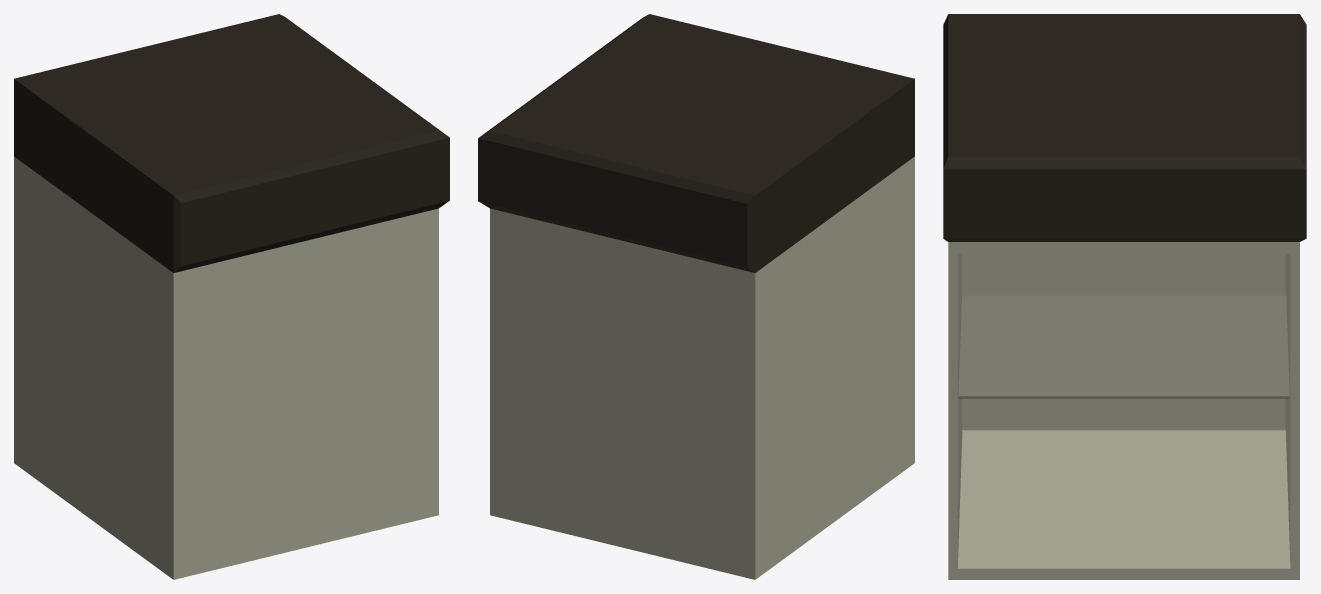
File: UpperCabinetBaseV1.fbx
3 views of the same model, side by side, from view 1: azimuth 30°, elevation 25°; view 2: azimuth 150°, elevation 25°; view 3: azimuth 270°, elevation 25° (orthographic). The views are drawn at different scales.
Visible parts, largest first — view 1: Cube; view 2: Cube; view 3: Cube.
Boxes of the visible parts, box(x1,y1,x2,y2) form: Cube: box(14, 14, 449, 579); Cube: box(478, 14, 914, 579); Cube: box(943, 14, 1306, 579).
Bounding box in the file's own units: 645 × 619 × 830.
